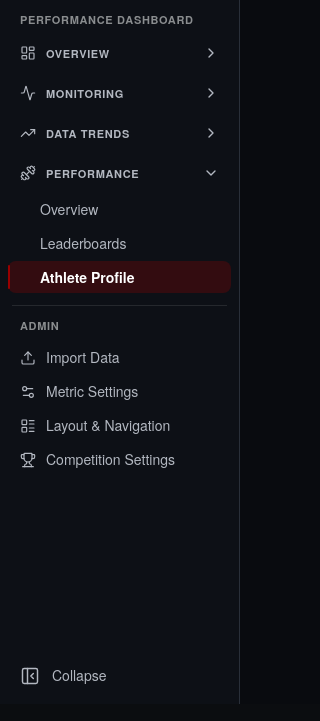
Test: opens one category at a time when toggled
Expected: the link "Athlete Profile" is shown, [8, 261, 231, 293]
# expand Monitoring → Performance collapses (one open at a time)
Click the button "Monitoring" at point(120, 93), box [8, 75, 231, 111]
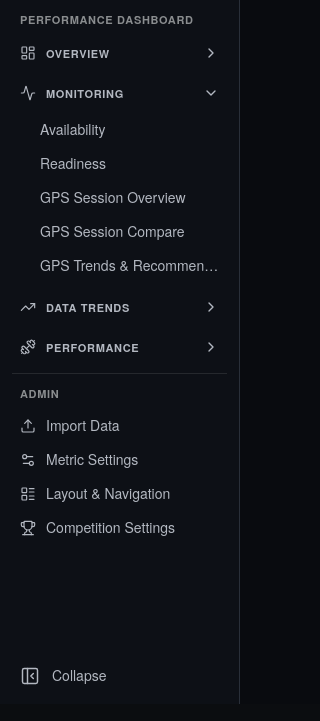
Result: the link "Availability" is shown at [40, 119, 105, 139]
Result: the link "Athlete Profile" is gone
